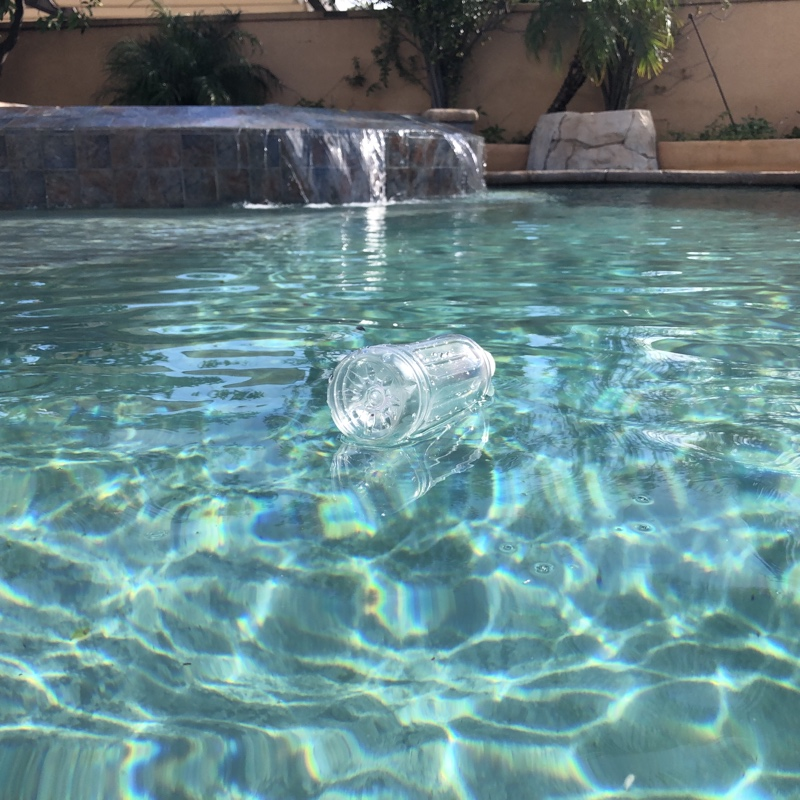Plastic Bottle: (319, 327, 498, 450)
